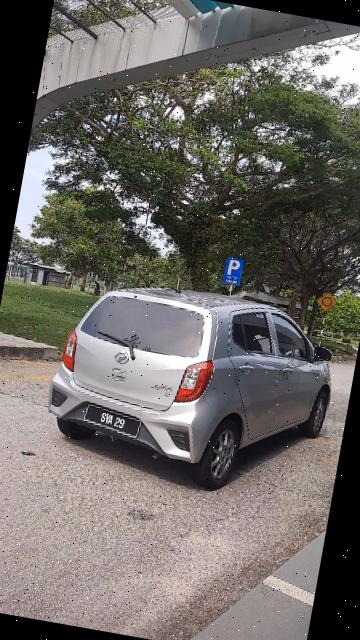License_Plate: (80, 402, 150, 443)
car: (40, 259, 349, 507)
